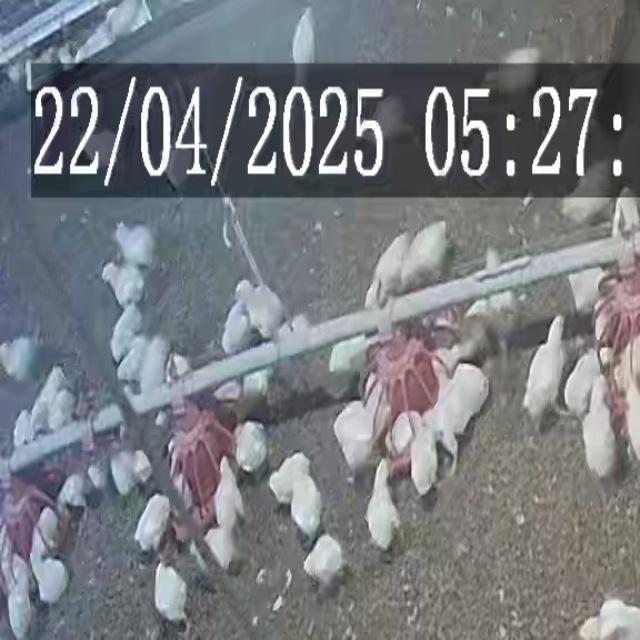chicken: (520, 315, 569, 429), (358, 458, 404, 550), (580, 374, 618, 484), (399, 219, 451, 291), (364, 233, 410, 310), (409, 412, 444, 502), (240, 277, 288, 339), (562, 343, 600, 421), (152, 560, 192, 631), (300, 534, 347, 594), (211, 453, 247, 531), (133, 491, 174, 557), (267, 452, 313, 507), (292, 470, 326, 539), (138, 336, 172, 404), (100, 260, 146, 310), (108, 304, 146, 364), (112, 220, 156, 270), (201, 522, 242, 574), (6, 569, 35, 640), (234, 419, 269, 475), (116, 338, 153, 390), (109, 451, 139, 496), (57, 473, 89, 514)
